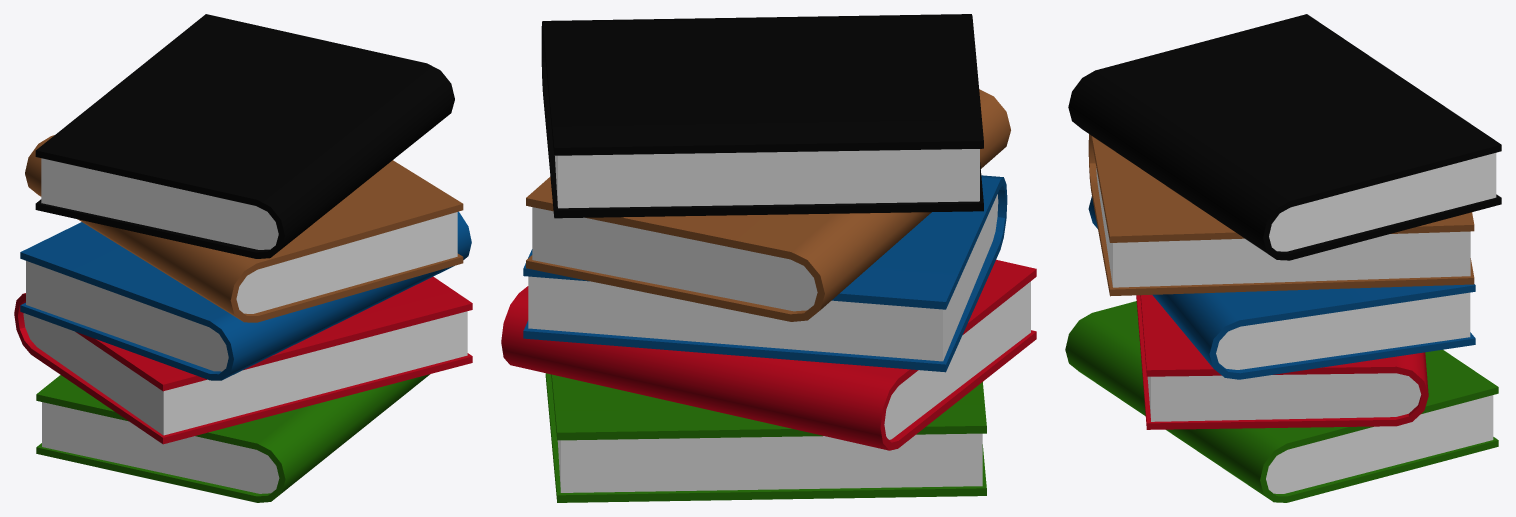
The model's file is Book_Pile_2.fbx.
3 views of the same model, side by side, from view 1: azimuth 30°, elevation 25°; view 2: azimuth 150°, elevation 25°; view 3: azimuth 270°, elevation 25° (orthographic). The views are drawn at different scales.
Parts seen in each view (by area): view 1: Book_Pile_2; view 2: Book_Pile_2; view 3: Book_Pile_2.
Boxes of the visible parts, bbox=[...] form: Book_Pile_2: bbox=[14, 14, 472, 502]; Book_Pile_2: bbox=[501, 14, 1036, 502]; Book_Pile_2: bbox=[1065, 14, 1501, 502].
Size of the model in its own units: 0.019 by 0.0138 by 0.018.
